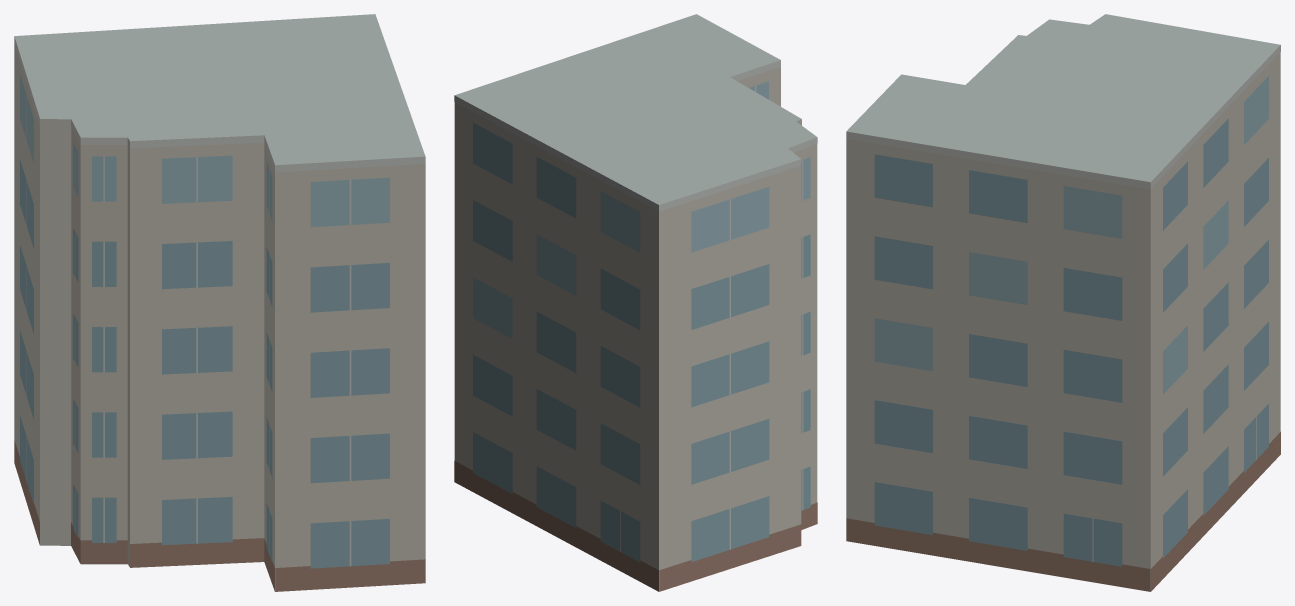
The model's file is survey-upis-32875269.glb.
3 renders of one model, left to right at view 1: azimuth 30°, elevation 25°; view 2: azimuth 150°, elevation 25°; view 3: azimuth 270°, elevation 25°, orthographic. The views are drawn at different scales.
Visible parts, largest first — view 1: survey-upis-32875269.tmp; view 2: survey-upis-32875269.tmp; view 3: survey-upis-32875269.tmp.
Part boxes in pixels (x1,y1,x2,y2): survey-upis-32875269.tmp: [14, 14, 425, 591]; survey-upis-32875269.tmp: [454, 14, 817, 591]; survey-upis-32875269.tmp: [846, 14, 1280, 591].
Bounding box in the file's own units: 12.51 × 14.2 × 13.66.
